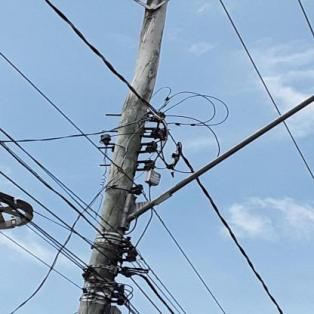Poste: (74, 1, 177, 314)
